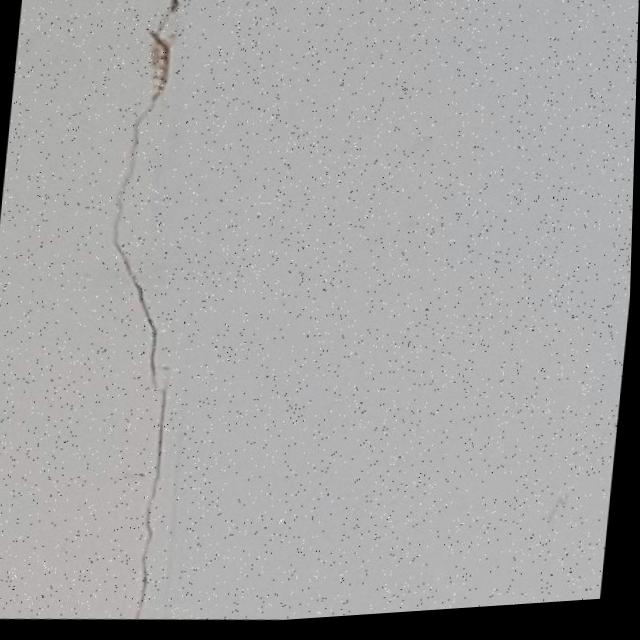Crack: (72, 0, 222, 626)
